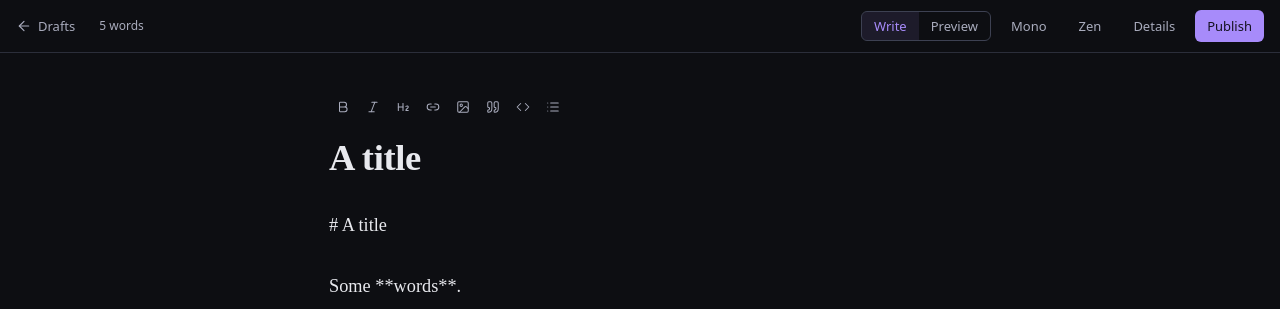
Test: ArticleEditor › previews the article as the reader shows it
The width and height of the screenshot is (1280, 309).
Click the button "Preview": {"x": 954, "y": 26} [919,12,990,40]
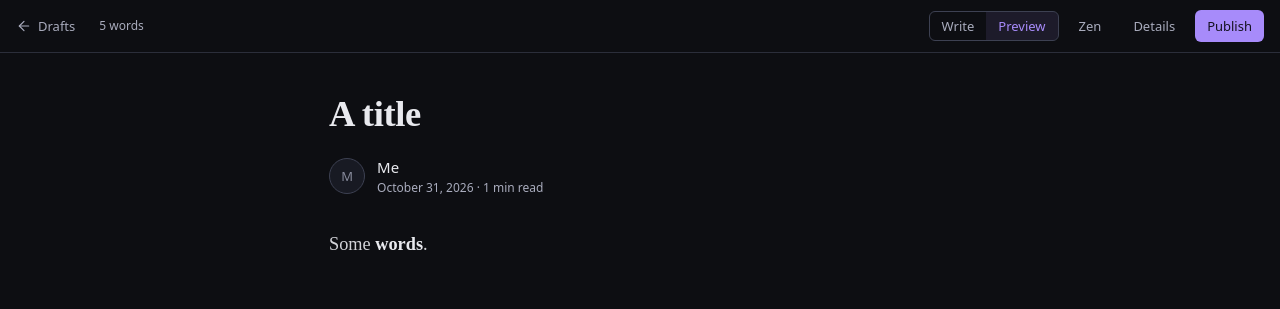
Expected: the heading reads "A title", [329,93,421,134]
Expected: the element showing "Some words." is shown, [329,234,428,254]
